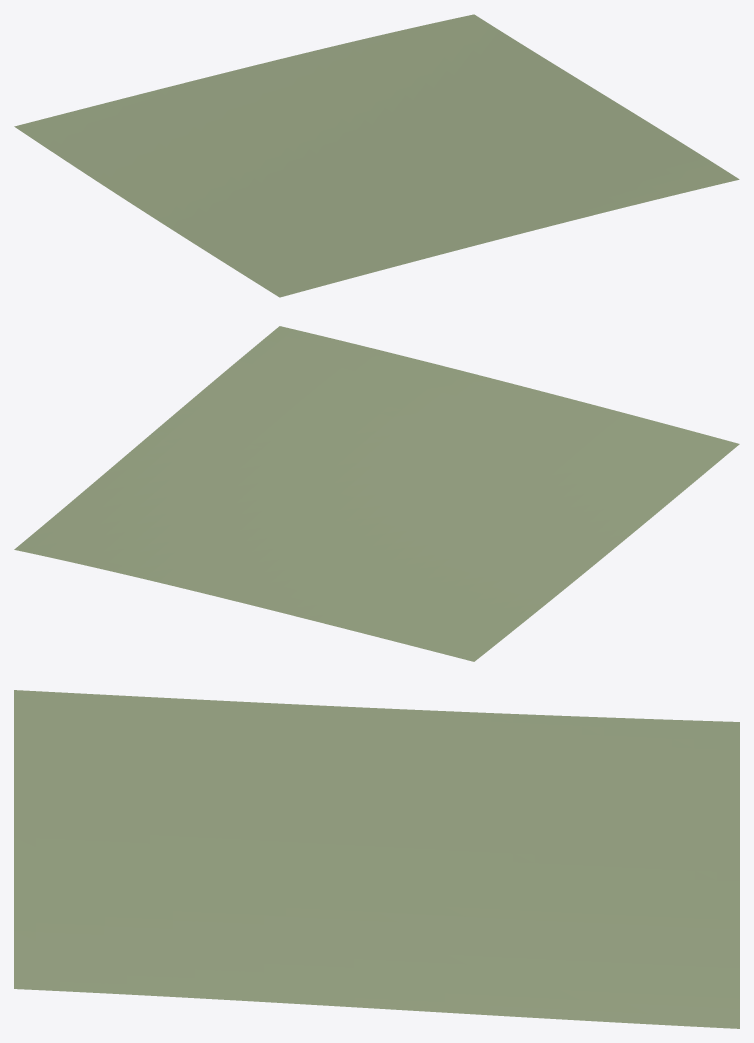
File: expanse-22-11.glb
The picture shows the model from 3 angles, top to bottom: view 1: azimuth 30°, elevation 25°; view 2: azimuth 150°, elevation 25°; view 3: azimuth 270°, elevation 25°; orthographic projection. The views are drawn at different scales.
Visible parts, largest first — view 1: expanse-22-11; view 2: expanse-22-11; view 3: expanse-22-11.
Boxes of the visible parts, left/top/right/bottom form: expanse-22-11: left=14, top=14, right=739, bottom=297; expanse-22-11: left=14, top=326, right=739, bottom=661; expanse-22-11: left=14, top=690, right=739, bottom=1028.
Size of the model in its own units: 256 by 15.73 by 256.
